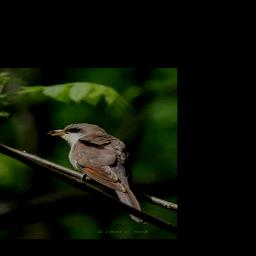Cuckoo: (47, 123, 146, 225)
